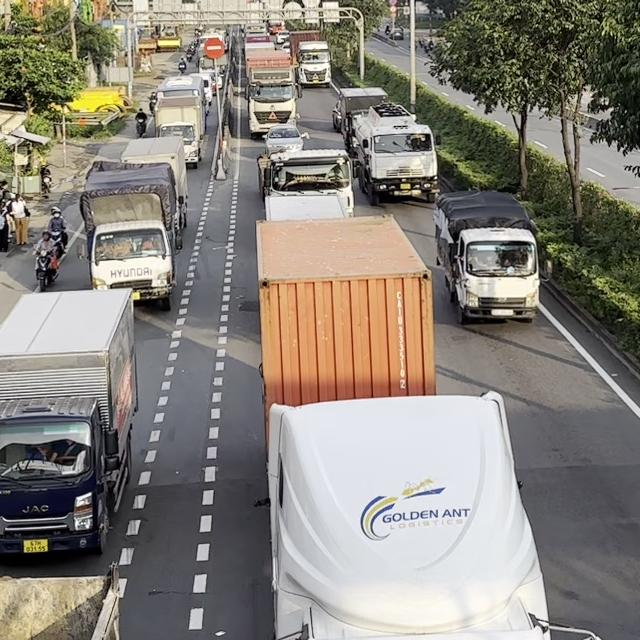car: (263, 123, 310, 159)
motorcycle: (32, 246, 60, 292), (134, 107, 148, 138), (40, 169, 52, 197)
truck: (254, 210, 553, 639), (0, 287, 138, 558), (432, 188, 547, 324), (78, 163, 179, 310), (83, 136, 188, 250), (348, 101, 439, 205), (256, 148, 354, 221), (244, 50, 302, 139), (148, 86, 206, 167), (331, 85, 388, 153), (296, 40, 332, 87)
